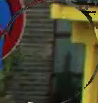No waiting: (0, 0, 24, 60)
